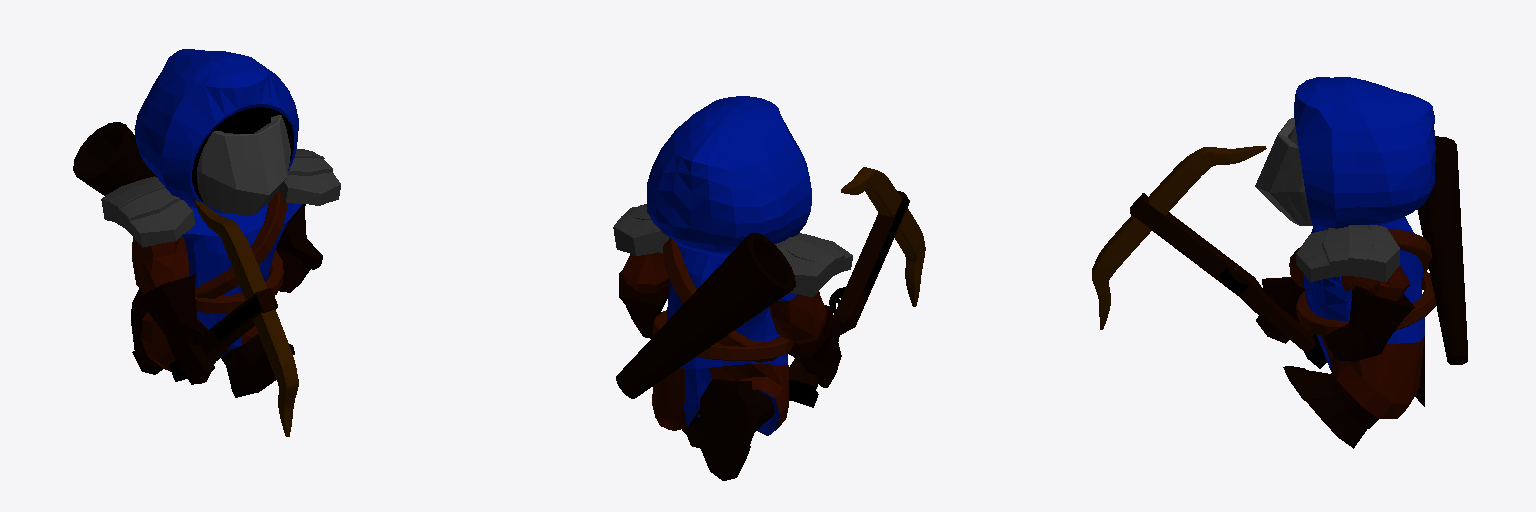
File: BlueTeam_Archer_Unit.obj
3 renders of one model, left to right at view 1: azimuth 30°, elevation 25°; view 2: azimuth 150°, elevation 25°; view 3: azimuth 270°, elevation 25°, orthographic.
Parts seen in each view (by area): view 1: BlueTeam_Acher_Helmet_Cylinder.002, BlueTeam_Archer_Cube.001, CrossBow01_Cube.003, BlueTeam_Quiver_Archer_Cylinder.003, BlueTeam_Archer_Shoulders.R_Cube.014, BlueTeam_Archer_Shoulders.L_Cube.002; view 2: BlueTeam_Archer_Cube.001, BlueTeam_Acher_Helmet_Cylinder.002, BlueTeam_Quiver_Archer_Cylinder.003, CrossBow01_Cube.003, BlueTeam_Archer_Shoulders.R_Cube.014, BlueTeam_Archer_Shoulders.L_Cube.002; view 3: BlueTeam_Acher_Helmet_Cylinder.002, BlueTeam_Archer_Cube.001, CrossBow01_Cube.003, BlueTeam_Quiver_Archer_Cylinder.003, BlueTeam_Archer_Shoulders.L_Cube.002.
Part boxes in pixels (x1,y1,x2,y2): BlueTeam_Acher_Helmet_Cylinder.002: (134,49,298,215); BlueTeam_Archer_Cube.001: (131,203,322,397); CrossBow01_Cube.003: (169,200,298,436); BlueTeam_Quiver_Archer_Cylinder.003: (73,122,286,313); BlueTeam_Archer_Shoulders.R_Cube.014: (101,176,195,247); BlueTeam_Archer_Shoulders.L_Cube.002: (280,149,340,205); BlueTeam_Archer_Cube.001: (619,244,841,480); BlueTeam_Acher_Helmet_Cylinder.002: (647,96,811,253); BlueTeam_Quiver_Archer_Cylinder.003: (616,233,795,398); CrossBow01_Cube.003: (789,167,925,407); BlueTeam_Archer_Shoulders.R_Cube.014: (775,233,852,296); BlueTeam_Archer_Shoulders.L_Cube.002: (613,204,668,255); BlueTeam_Acher_Helmet_Cylinder.002: (1255,77,1435,230); BlueTeam_Archer_Cube.001: (1256,217,1424,448); CrossBow01_Cube.003: (1092,146,1326,368); BlueTeam_Quiver_Archer_Cylinder.003: (1289,136,1467,364); BlueTeam_Archer_Shoulders.L_Cube.002: (1296,225,1399,282).
Bounding box in the file's own units: 1.11 × 1.79 × 1.76.